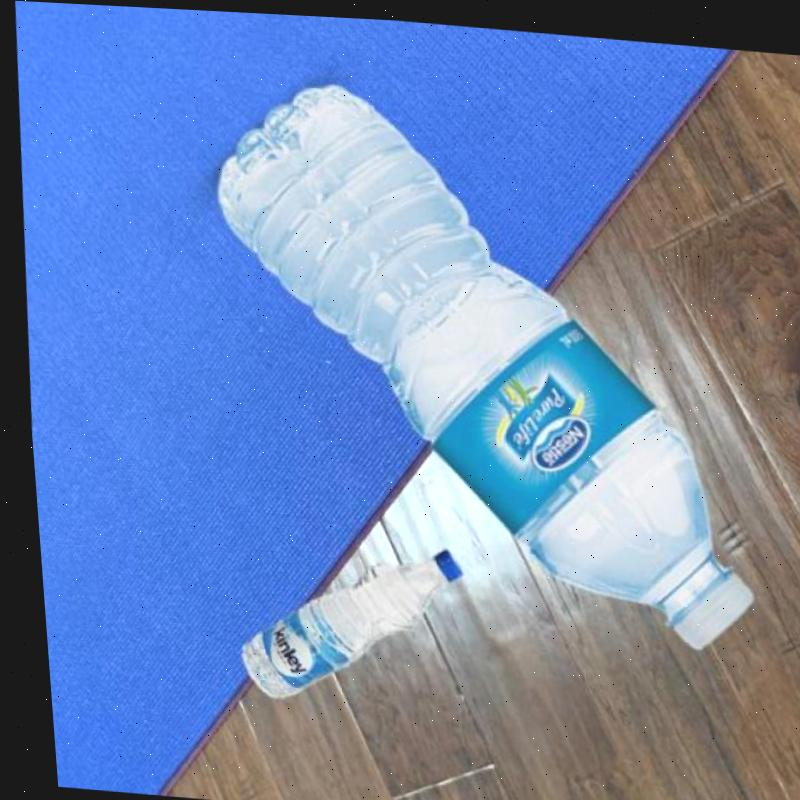botella: (188, 68, 771, 659), (217, 530, 463, 714)
